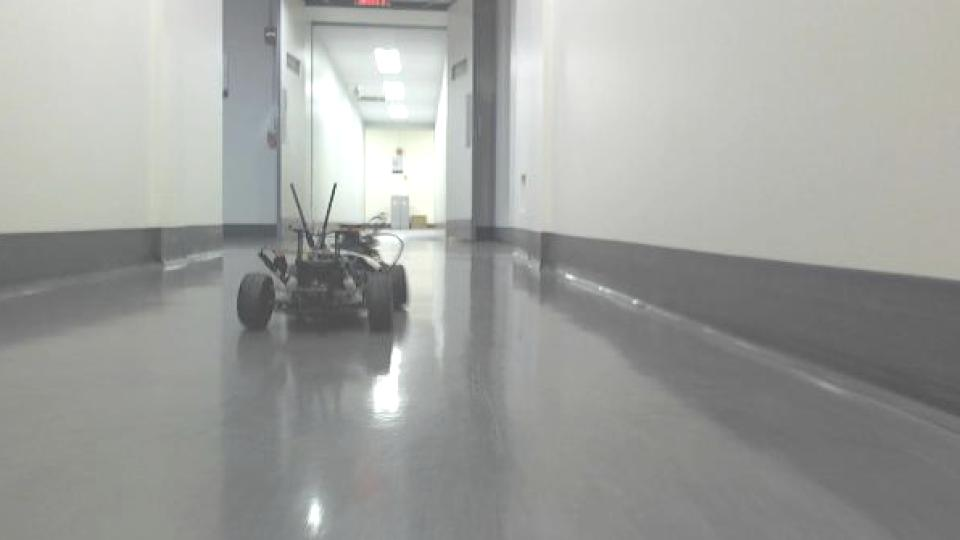car: (234, 180, 414, 337)
